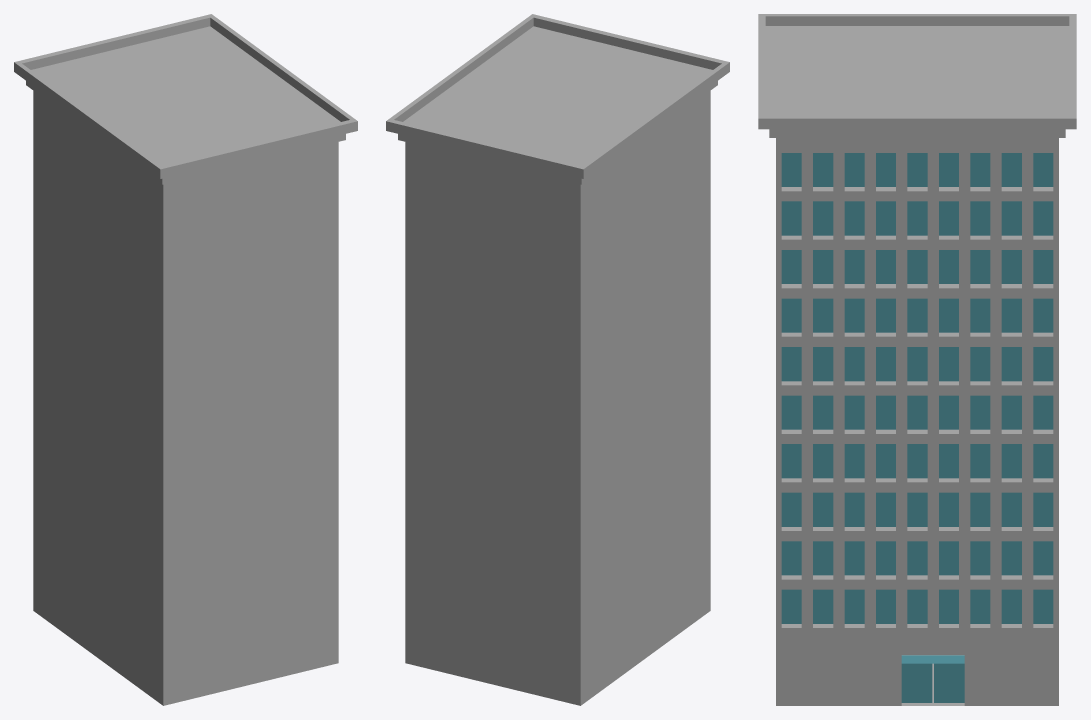
Rendered from office_complex_01.glb.
3 renders of one model, left to right at view 1: azimuth 30°, elevation 25°; view 2: azimuth 150°, elevation 25°; view 3: azimuth 270°, elevation 25°, orthographic. The views are drawn at different scales.
Visible parts, largest first — view 1: Object_15; view 2: Object_15; view 3: Object_15.
Boxes of the visible parts, x1,y1,x2,y2 form: Object_15: [14, 14, 357, 705]; Object_15: [386, 14, 729, 705]; Object_15: [758, 14, 1076, 705].
Size of the model in its own units: 3.8 by 10.02 by 4.88.
